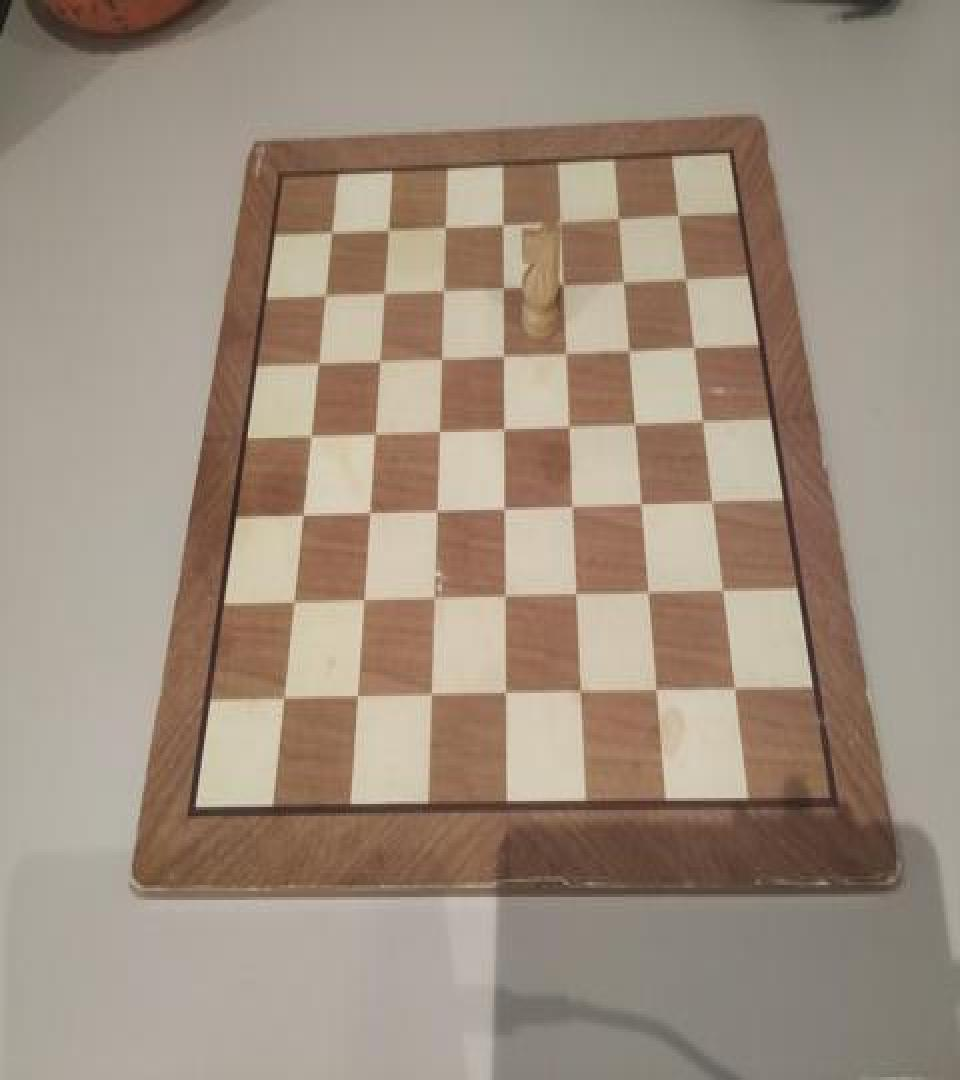xcorner: (346, 686, 366, 716), (421, 684, 441, 714), (572, 680, 592, 710), (649, 678, 669, 708), (726, 676, 746, 706), (283, 590, 303, 620), (353, 588, 373, 618), (424, 585, 444, 615), (496, 584, 516, 614), (641, 579, 661, 609), (715, 576, 735, 606), (292, 501, 312, 531), (360, 498, 380, 528), (427, 496, 447, 526), (496, 494, 516, 524), (565, 490, 585, 520), (634, 488, 654, 518), (704, 486, 724, 516), (301, 420, 321, 450), (365, 417, 385, 447), (430, 414, 450, 444), (496, 411, 516, 441), (562, 408, 582, 438), (628, 406, 648, 436), (695, 404, 715, 434), (309, 345, 329, 375), (371, 342, 391, 372), (433, 339, 453, 369), (496, 336, 516, 366), (559, 333, 579, 363), (622, 330, 642, 360), (686, 327, 706, 357), (316, 276, 336, 306), (376, 273, 396, 303), (435, 270, 455, 300), (495, 267, 515, 297), (556, 264, 576, 294), (617, 261, 637, 291), (678, 258, 698, 288), (323, 213, 343, 243), (380, 210, 400, 240), (437, 207, 457, 237), (495, 204, 515, 234), (553, 201, 573, 231), (612, 198, 632, 228), (671, 194, 691, 224), (273, 689, 293, 718), (496, 683, 516, 712), (568, 581, 588, 610)
